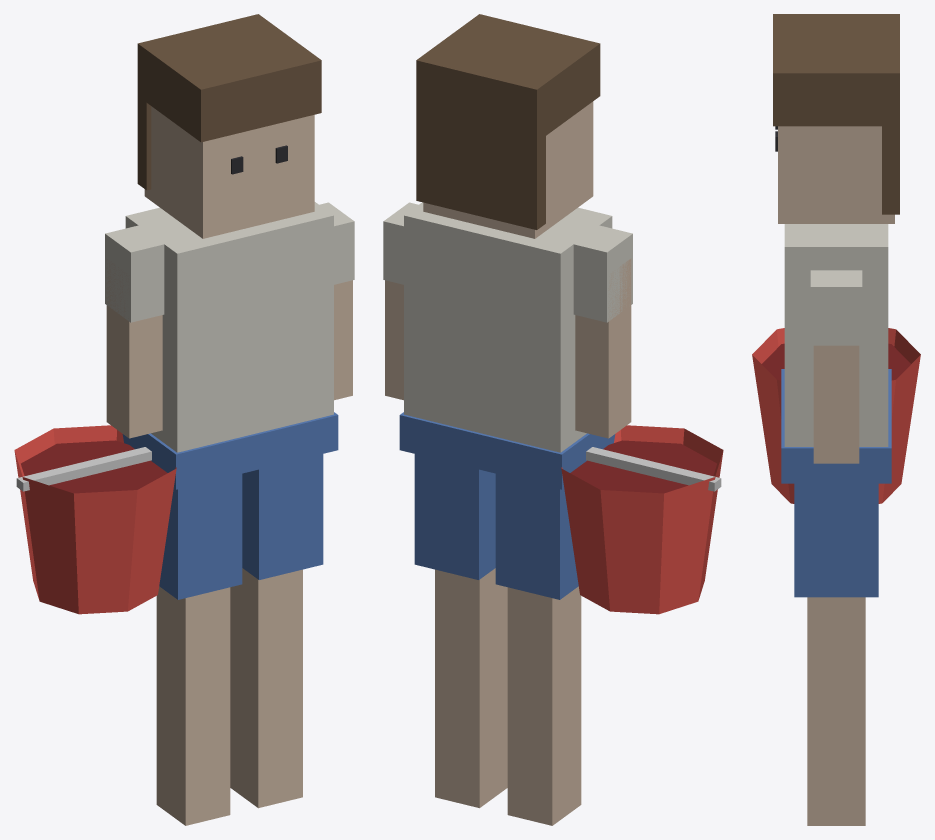
The model's file is tito_boneco.glb.
3 renders of one model, left to right at view 1: azimuth 30°, elevation 25°; view 2: azimuth 150°, elevation 25°; view 3: azimuth 270°, elevation 25°, orthographic.
Parts seen in each view (by area): view 1: Malha_2, Pernas_3, Malha_1, Malha_0; view 2: Malha_2, Pernas_3, Malha_1, Malha_0; view 3: Malha_2, Pernas_3, Malha_0, Malha_1.
Part boxes in pixels (bbox=[...]): Malha_2: bbox=[105, 14, 338, 489]; Pernas_3: bbox=[156, 454, 323, 825]; Malha_1: bbox=[14, 425, 176, 614]; Malha_0: bbox=[319, 202, 354, 400]; Malha_2: bbox=[399, 14, 632, 489]; Pernas_3: bbox=[414, 454, 581, 825]; Malha_1: bbox=[561, 425, 723, 614]; Malha_0: bbox=[383, 202, 418, 400]; Malha_2: bbox=[773, 14, 899, 483]; Pernas_3: bbox=[794, 483, 878, 825]; Malha_0: bbox=[810, 270, 862, 463]; Malha_1: bbox=[752, 328, 920, 503].
Size of the model in its own units: 0.575 by 1.28 by 0.26.
